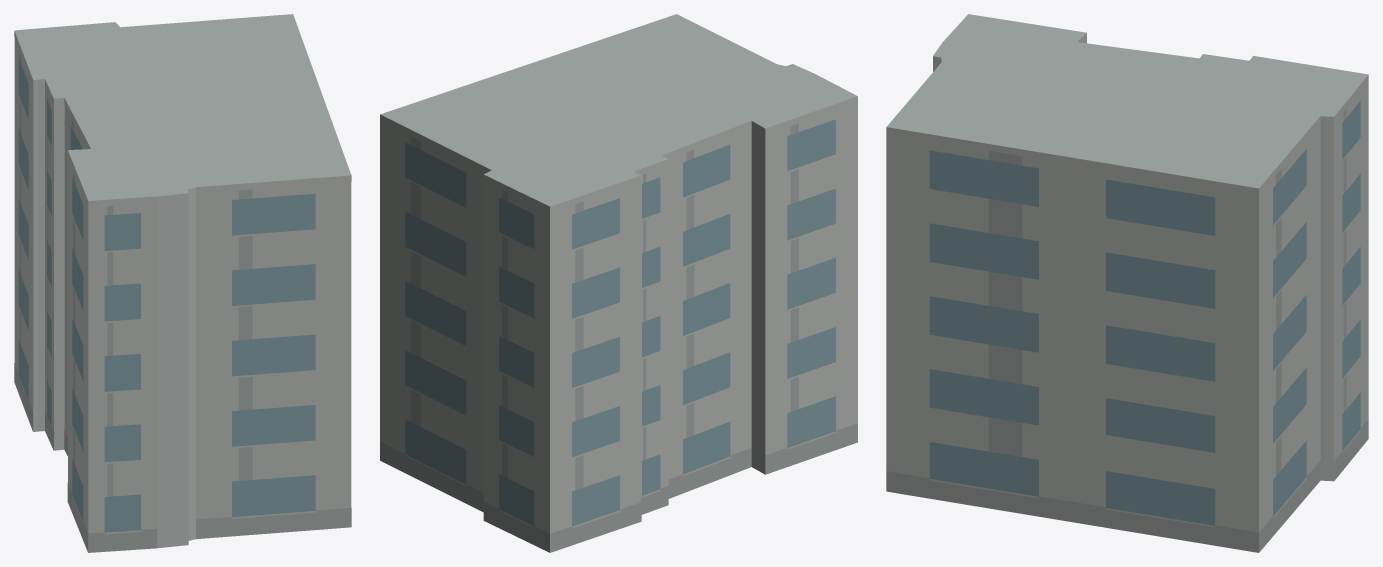
File: survey-upis-32950232.glb
3 views of the same model, side by side, from view 1: azimuth 30°, elevation 25°; view 2: azimuth 150°, elevation 25°; view 3: azimuth 270°, elevation 25° (orthographic). The views are drawn at different scales.
Visible parts, largest first — view 1: survey-upis-32950232.tmp; view 2: survey-upis-32950232.tmp; view 3: survey-upis-32950232.tmp.
Boxes of the visible parts, x1,y1,x2,y2 form: survey-upis-32950232.tmp: (14, 14, 351, 552); survey-upis-32950232.tmp: (380, 14, 857, 552); survey-upis-32950232.tmp: (886, 14, 1368, 552).
Size of the model in its own units: 13.56 by 13.2 by 15.84.
